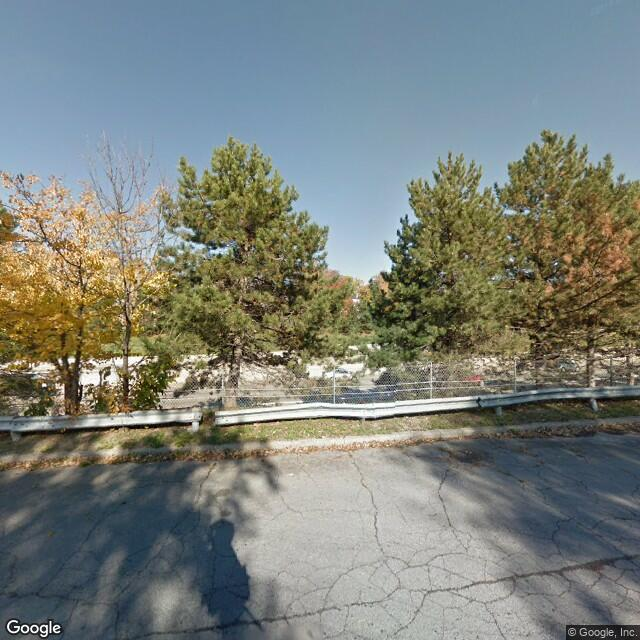litter: (240, 451, 272, 457), (572, 424, 590, 433), (147, 456, 168, 463)
